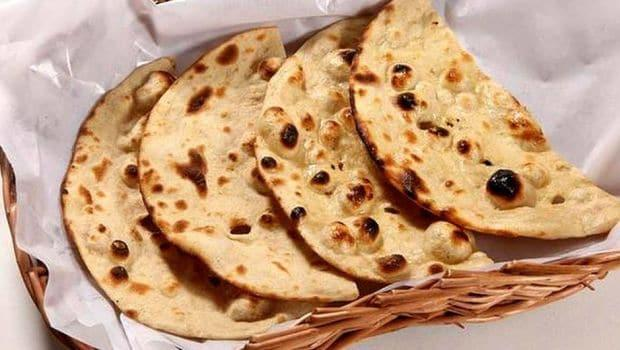roti: (60, 2, 620, 345)
